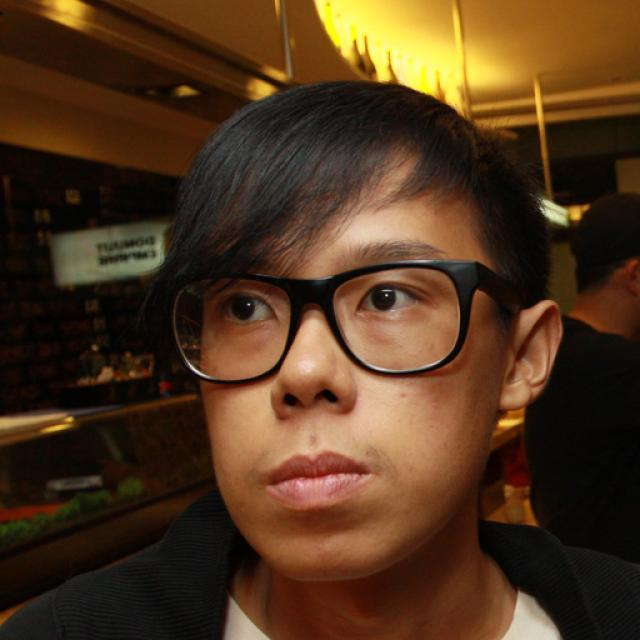neutral: (195, 142, 502, 584)
